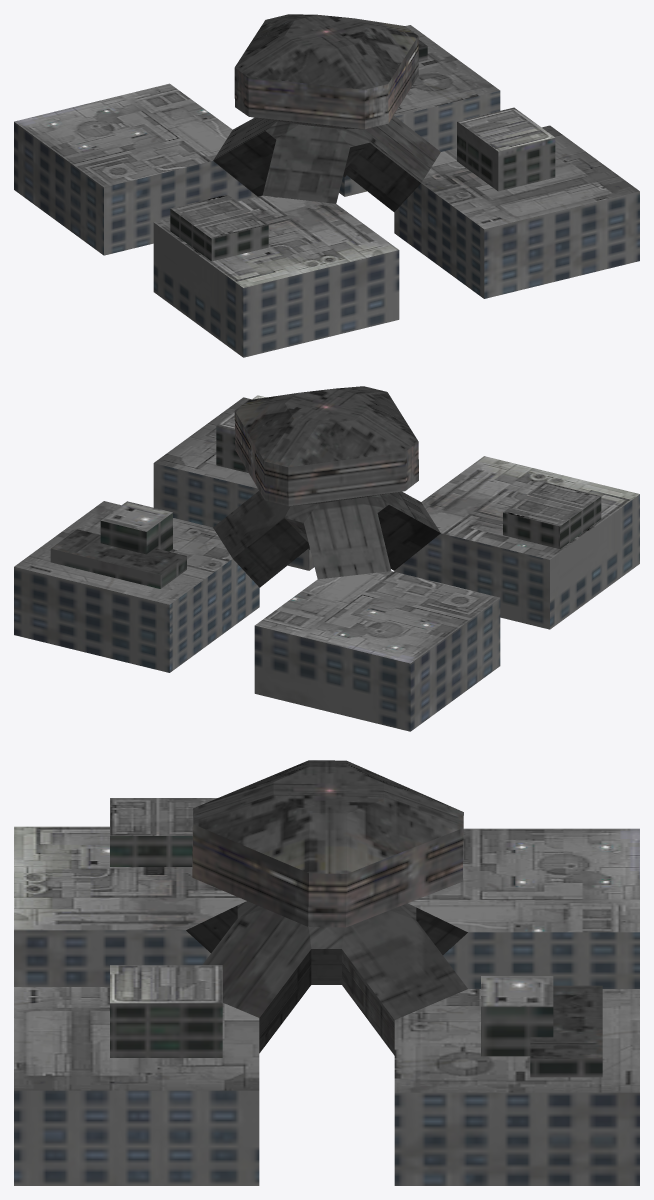
The model's file is scifi_building_38.obj.
The picture shows the model from 3 angles, top to bottom: view 1: azimuth 30°, elevation 25°; view 2: azimuth 150°, elevation 25°; view 3: azimuth 270°, elevation 25°; orthographic projection. The views are drawn at different scales.
Visible parts, largest first — view 1: building_38; view 2: building_38; view 3: building_38.
Boxes of the visible parts, bbox=[...] form: building_38: bbox=[14, 14, 639, 357]; building_38: bbox=[14, 386, 639, 731]; building_38: bbox=[14, 760, 639, 1185].
Size of the model in its own units: 97.72 by 45.58 by 97.95.
1 material, 1 textured.
